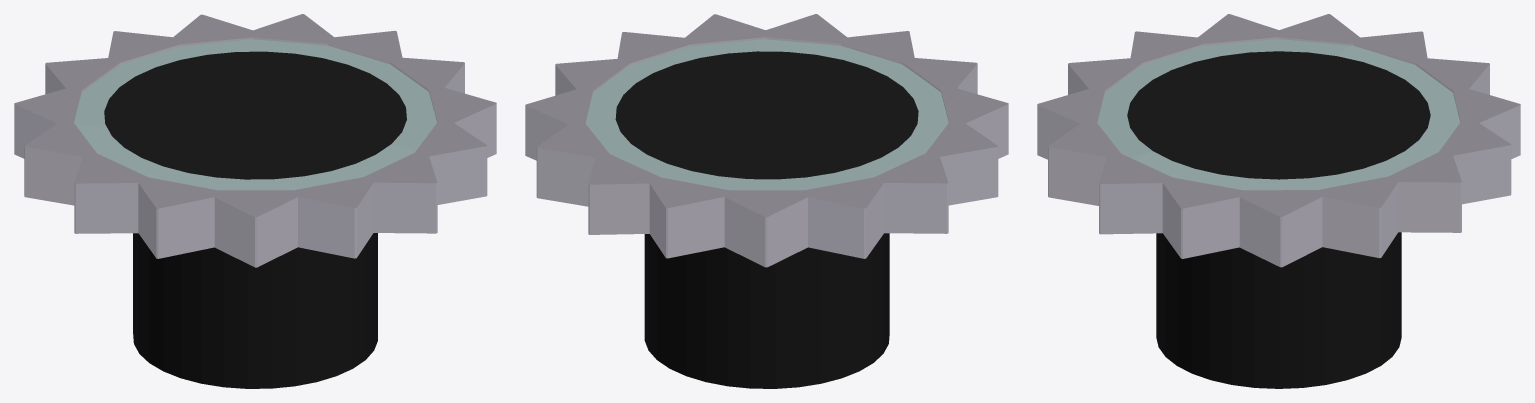
Rendered from saw.fbx.
3 renders of one model, left to right at view 1: azimuth 30°, elevation 25°; view 2: azimuth 150°, elevation 25°; view 3: azimuth 270°, elevation 25°, orthographic.
Visible parts, largest first — view 1: saw; view 2: saw; view 3: saw.
Part boxes in pixels (x1,y1,x2,y2): saw: (14,14,496,388); saw: (525,14,1008,388); saw: (1037,14,1520,388).
Bounding box in the file's own units: 391 × 200 × 394.
